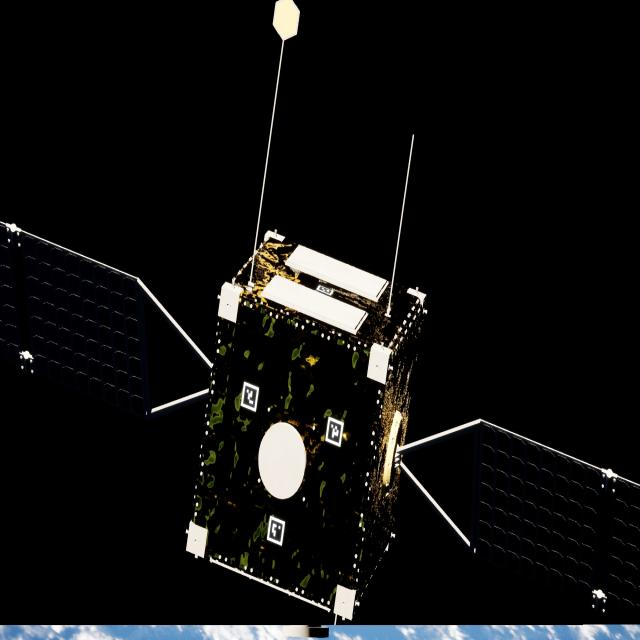satellite: (0, 222, 640, 613)
